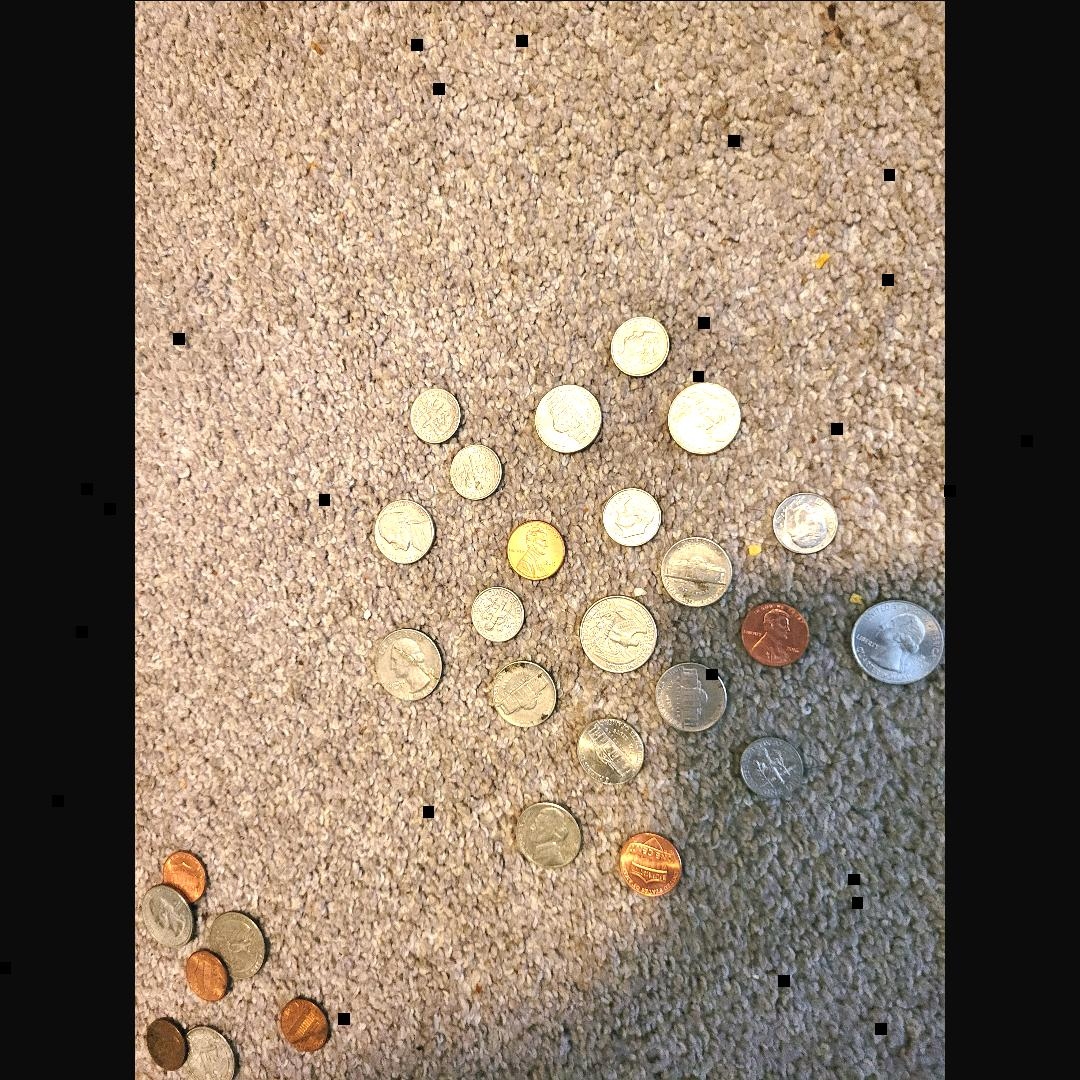Dime: (738, 732, 808, 798), (770, 493, 838, 559), (604, 313, 672, 375), (463, 584, 531, 646), (443, 442, 509, 504), (597, 484, 663, 546), (403, 382, 467, 442)
Nickel: (654, 662, 728, 730), (667, 383, 741, 451), (368, 496, 442, 564), (535, 385, 609, 453), (656, 535, 730, 603), (513, 800, 587, 868), (480, 662, 554, 730), (575, 715, 649, 783)
Penny: (736, 598, 813, 666), (613, 830, 687, 895), (504, 518, 570, 582), (278, 996, 331, 1052), (180, 946, 230, 1003), (139, 1015, 188, 1069), (162, 847, 210, 901)
Quarter: (851, 598, 943, 684), (372, 622, 448, 702), (576, 596, 656, 672), (206, 908, 266, 976), (175, 1018, 237, 1076), (142, 882, 198, 946)
